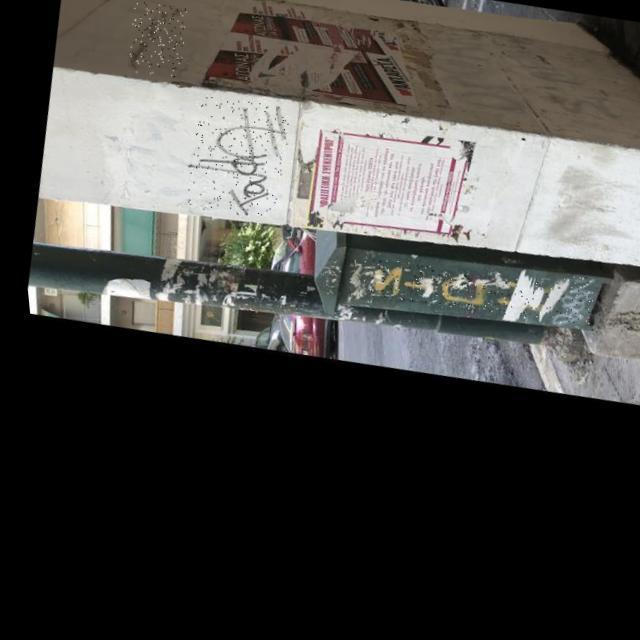-: (171, 91, 297, 228), (360, 253, 550, 337), (119, 0, 192, 83), (539, 278, 596, 340)
